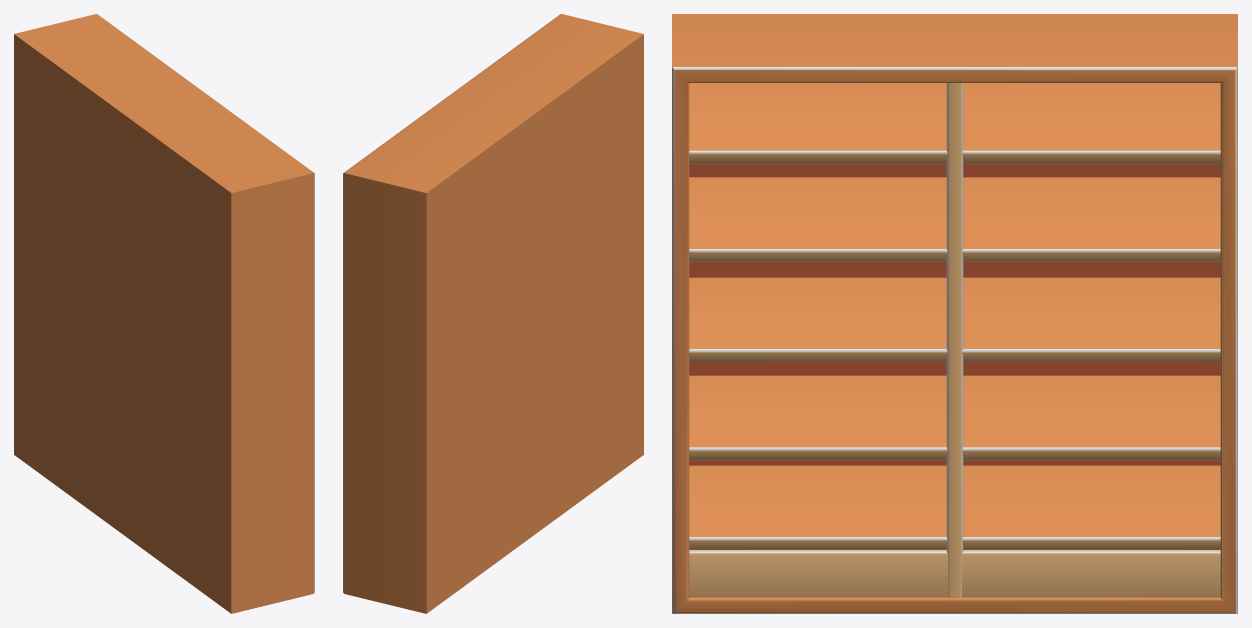
Rendered from Shelfs.fbx.
3 renders of one model, left to right at view 1: azimuth 30°, elevation 25°; view 2: azimuth 150°, elevation 25°; view 3: azimuth 270°, elevation 25°, orthographic. The views are drawn at different scales.
Parts seen in each view (by area): view 1: BackSide, MainCase; view 2: BackSide, MainCase; view 3: MainCase, shelf.004, shelf.002, shelf.003, shelf.005, shelf.001, BackSide, ShelfKapak, MidleLine.
Boxes of the visible parts, x1=… form: BackSide: x1=14, y1=34, x2=231, y2=613; MainCase: x1=14, y1=14, x2=314, y2=613; BackSide: x1=426, y1=35, x2=643, y2=611; MainCase: x1=343, y1=14, x2=643, y2=613; MainCase: x1=672, y1=14, x2=1237, y2=613; shelf.004: x1=689, y1=375, x2=1220, y2=460; shelf.002: x1=689, y1=177, x2=1220, y2=261; shelf.003: x1=689, y1=277, x2=1220, y2=361; shelf.005: x1=689, y1=465, x2=1220, y2=549; shelf.001: x1=689, y1=83, x2=1220, y2=163; BackSide: x1=689, y1=163, x2=1220, y2=465; ShelfKapak: x1=689, y1=550, x2=1220, y2=597; MidleLine: x1=946, y1=83, x2=963, y2=597.
Size of the model in its own units: 134 by 638 by 598.
